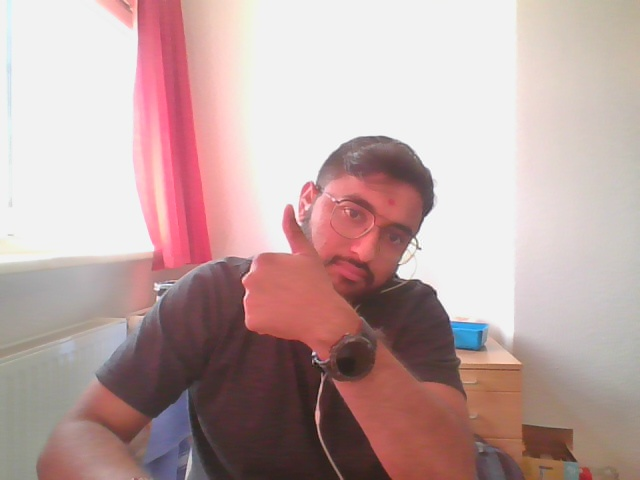ThumbsUp: (238, 204, 332, 347)
